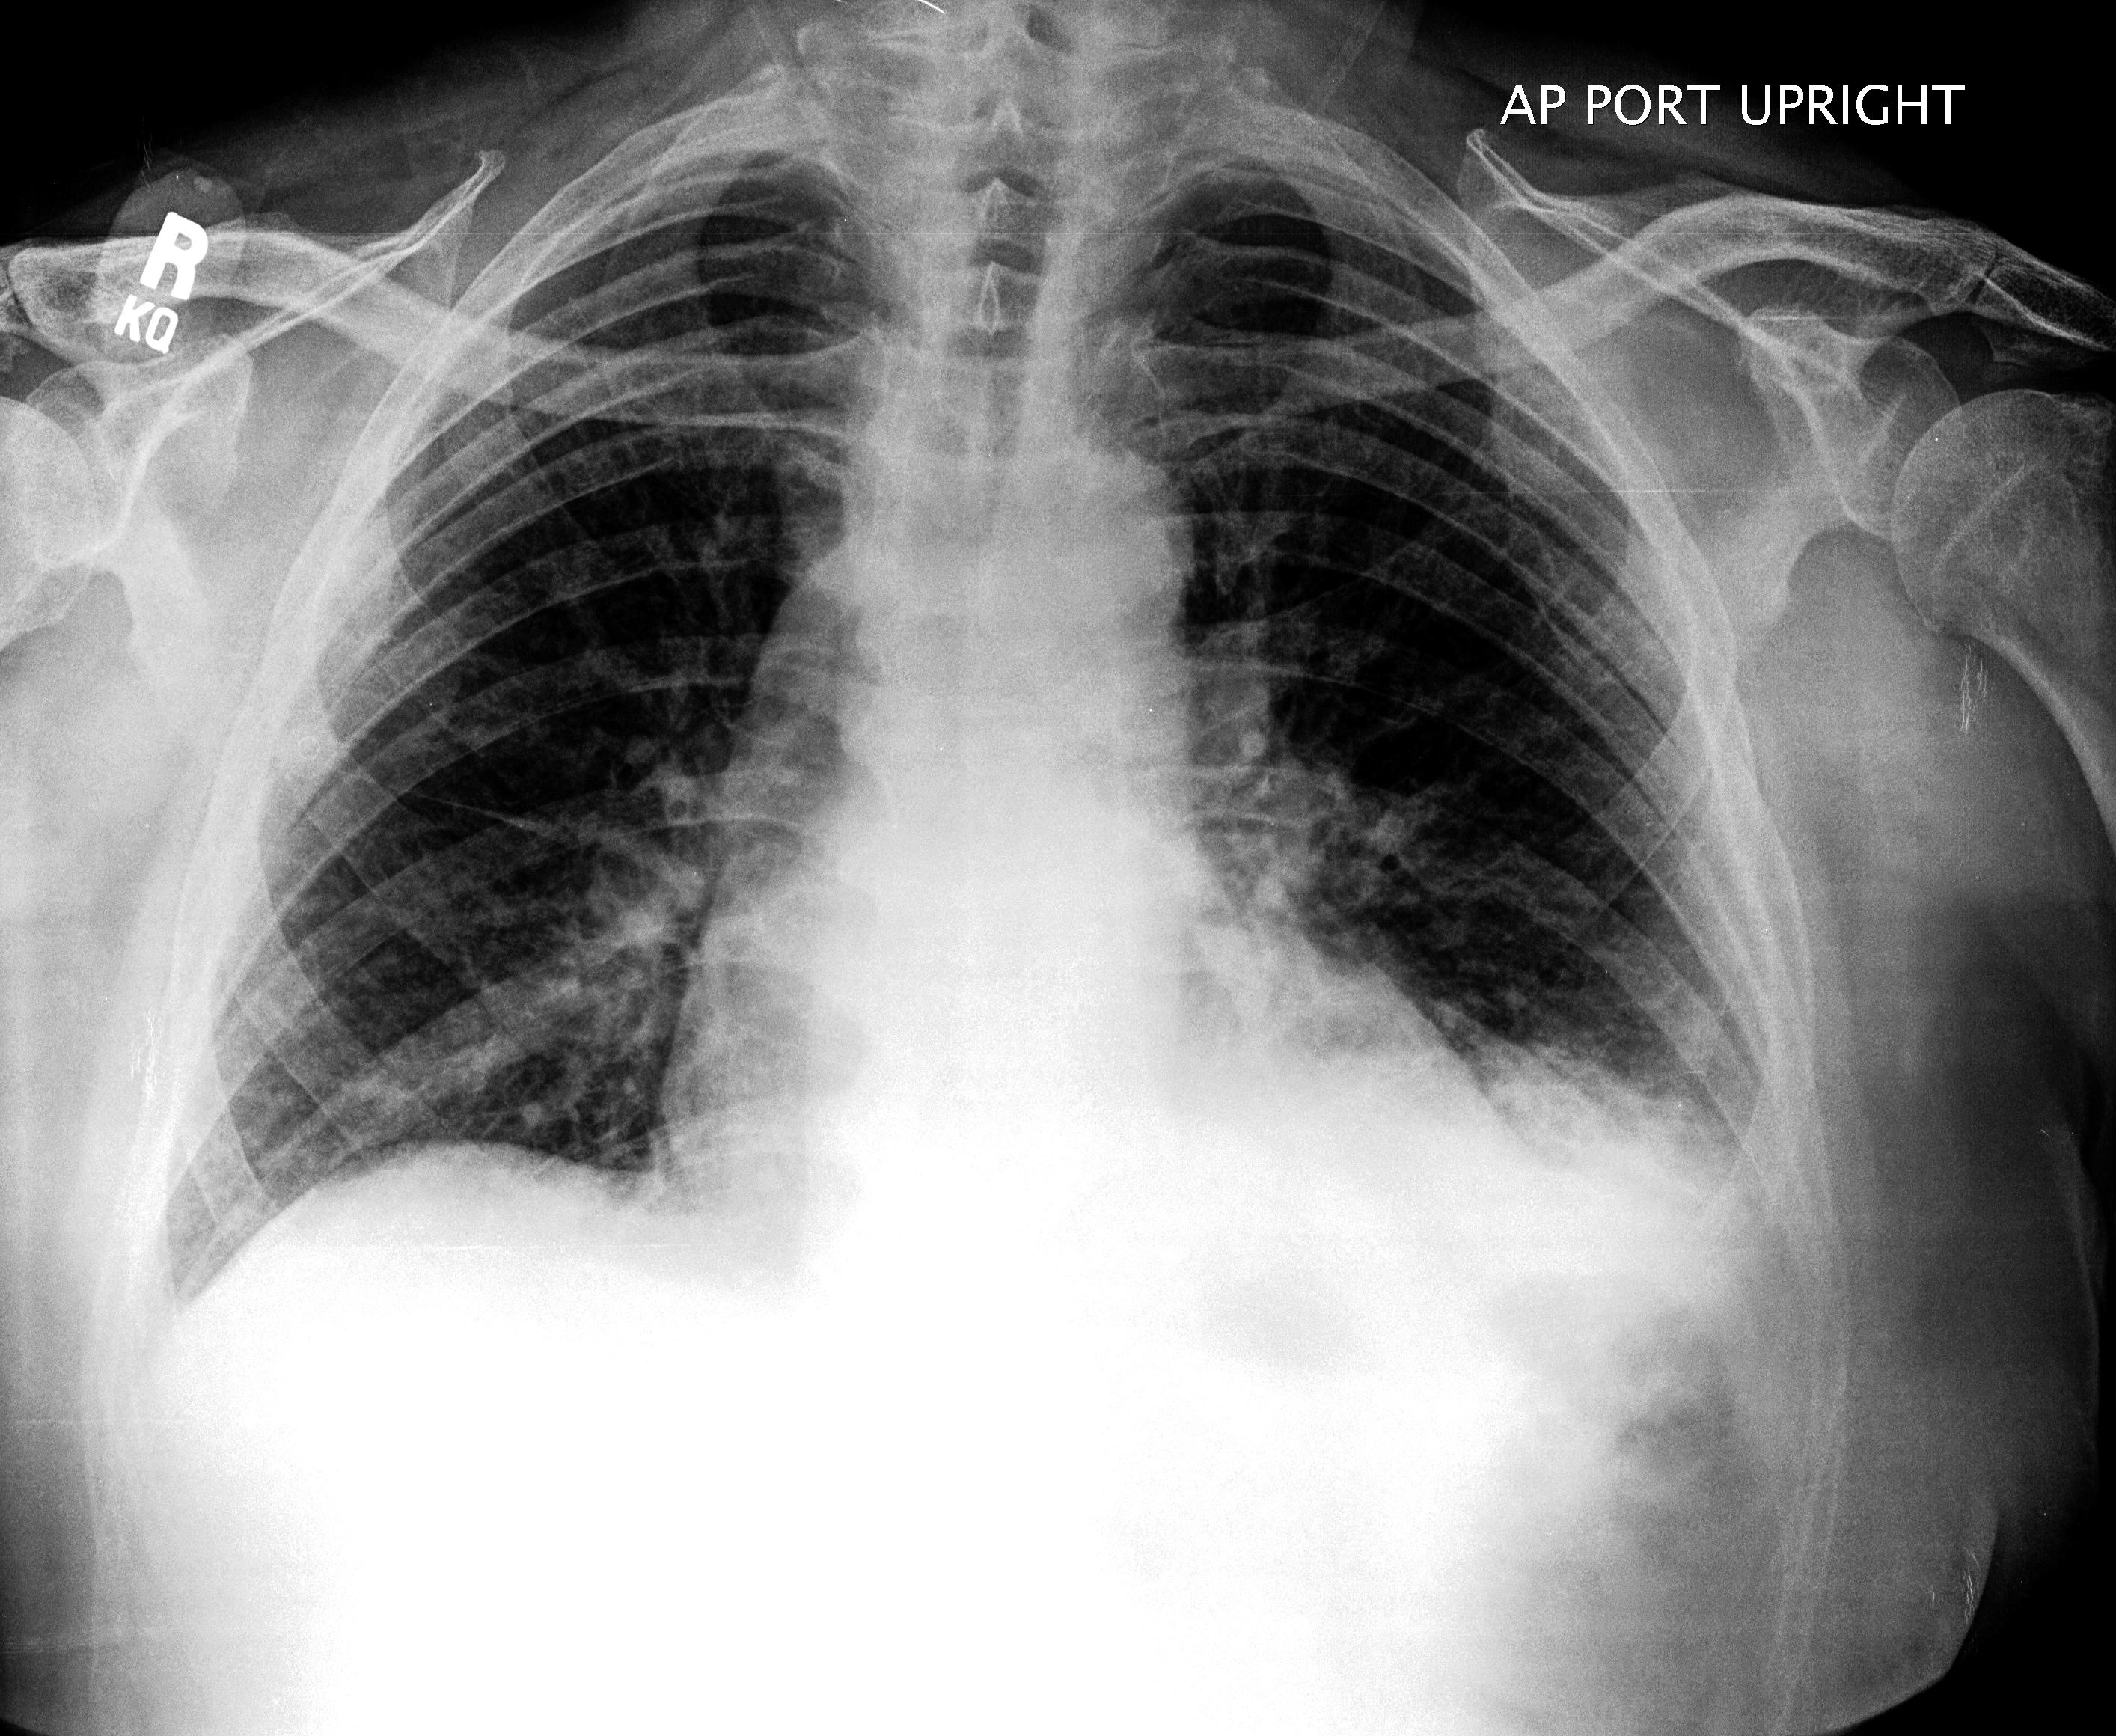Pleural Effusion: (1301, 1035, 1851, 1497)
